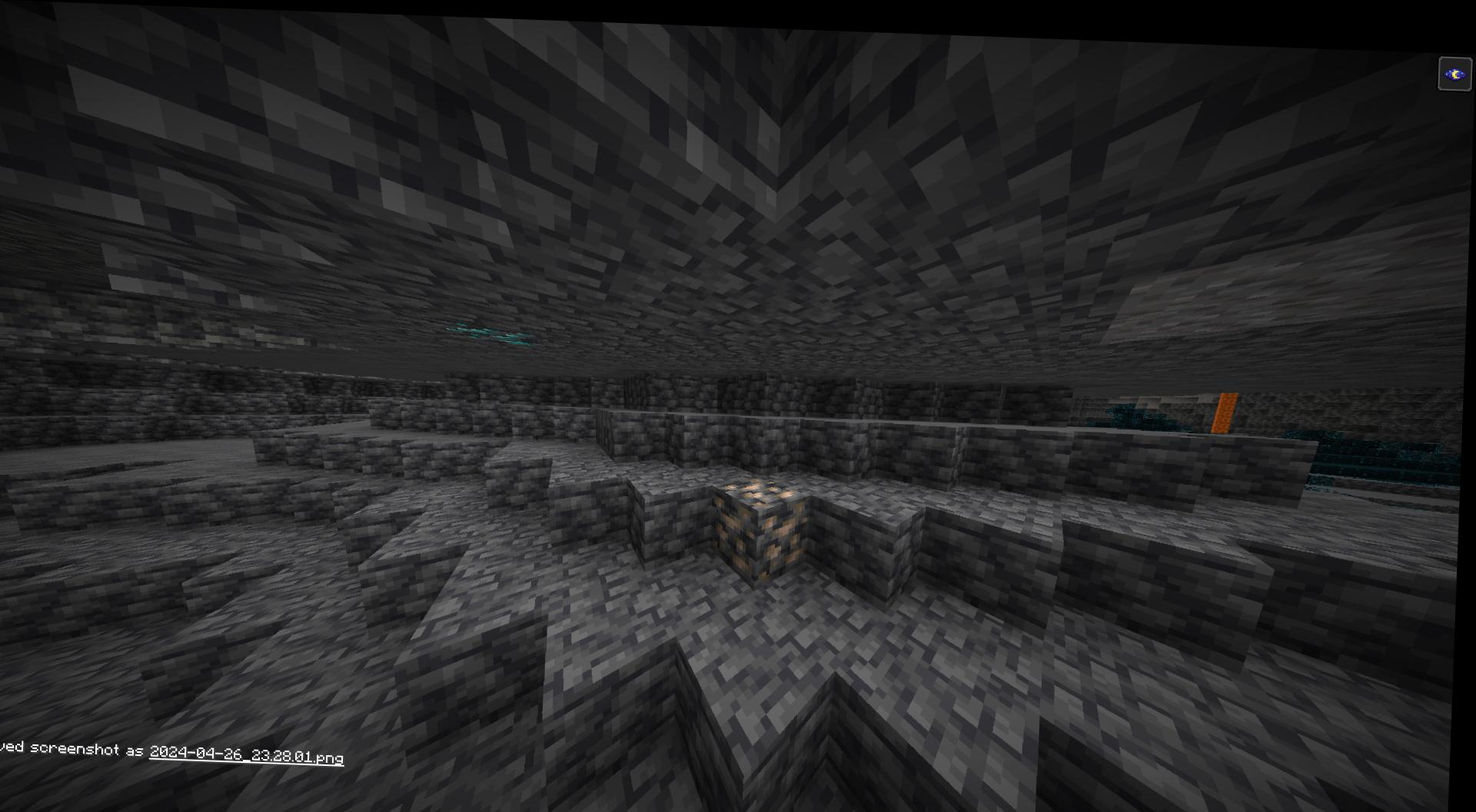diamond ore: (452, 311, 544, 350)
iron ore: (722, 474, 815, 570)
